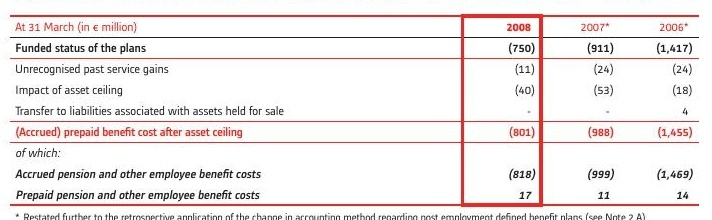table: (0, 0, 712, 220)
